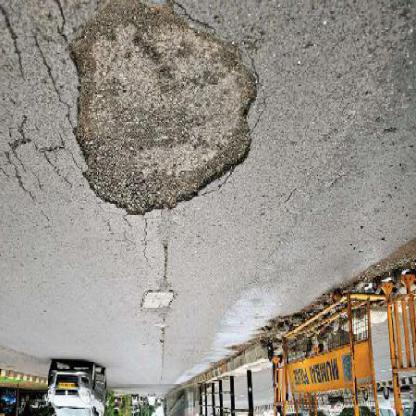pothole: (70, 3, 263, 225)
